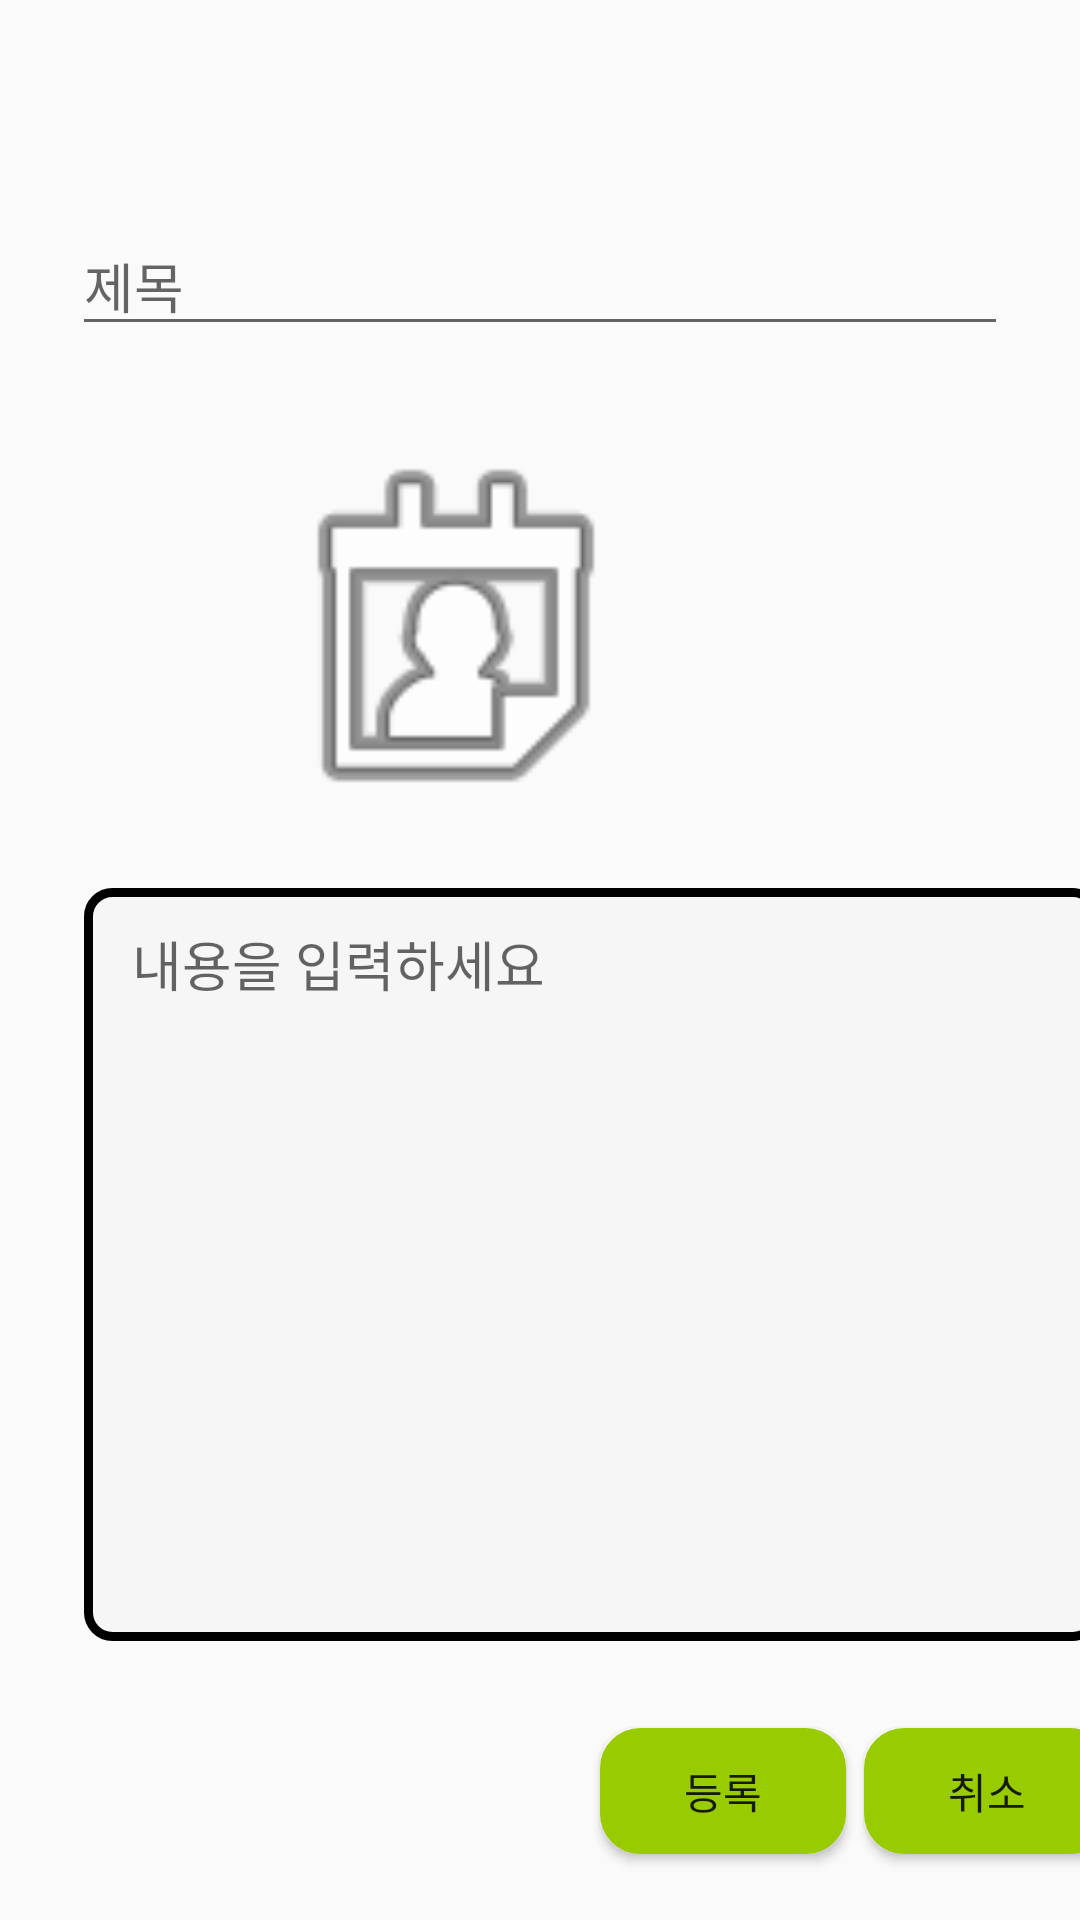

Where to tap for icons on this 1080×1920 app screen, as point (x, y):
calendar: point (456, 625)
